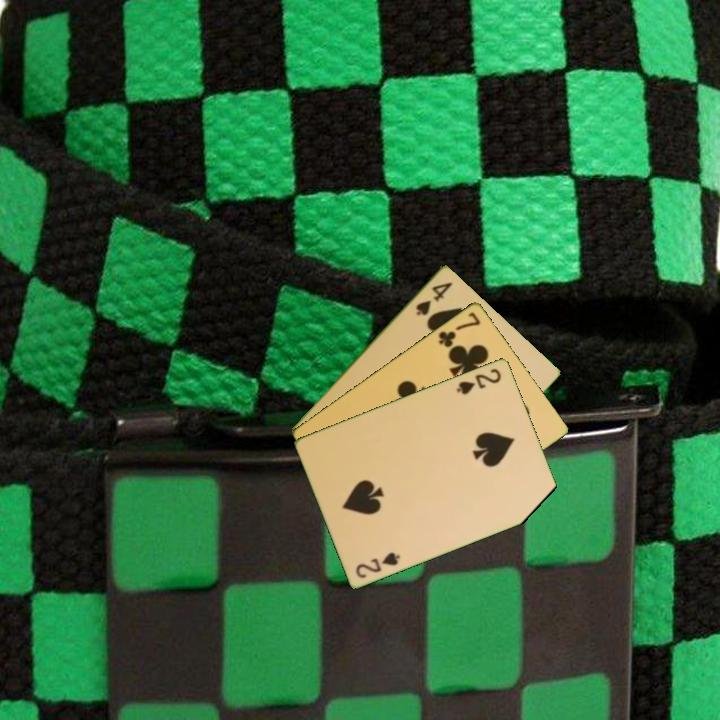2s: (453, 364, 504, 397), (352, 548, 403, 581)
4s: (412, 278, 455, 318)
7c: (435, 308, 484, 350)
